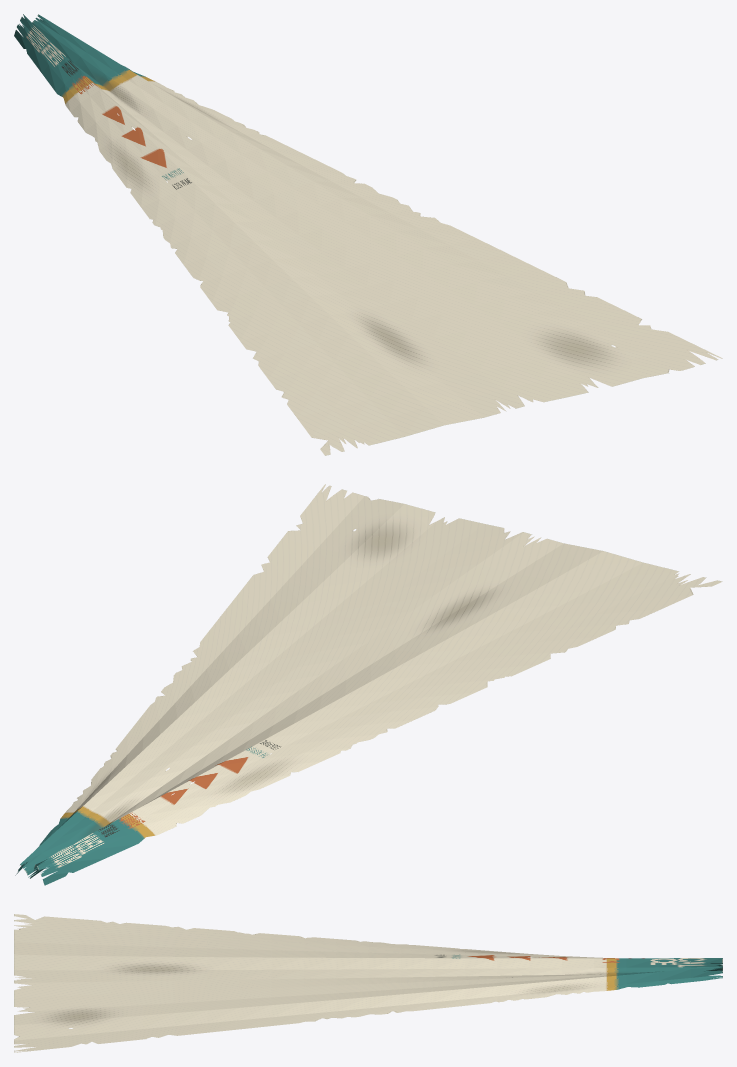
The model's file is VD_Pennant_BotanicalTerrace.obj.
The picture shows the model from 3 angles, top to bottom: view 1: azimuth 30°, elevation 25°; view 2: azimuth 150°, elevation 25°; view 3: azimuth 270°, elevation 25°; orthographic projection. The views are drawn at different scales.
Parts seen in each view (by area): view 1: VD_Pennant_BotanicalTerrace; view 2: VD_Pennant_BotanicalTerrace; view 3: VD_Pennant_BotanicalTerrace.
Part boxes in pixels (bbox=[...]): VD_Pennant_BotanicalTerrace: bbox=[14, 14, 722, 455]; VD_Pennant_BotanicalTerrace: bbox=[15, 484, 722, 885]; VD_Pennant_BotanicalTerrace: bbox=[14, 914, 722, 1052].
Size of the model in its own units: 130 by 10.78 by 280.
1 material, 1 textured.
